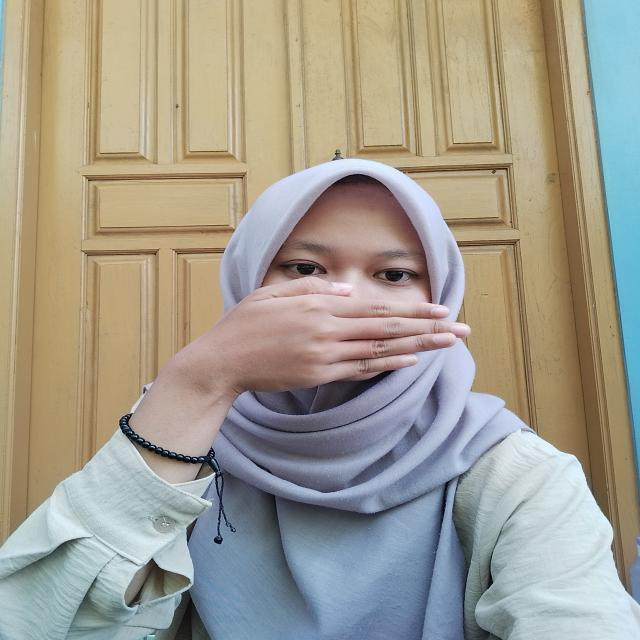buruk: (134, 277, 470, 405)
